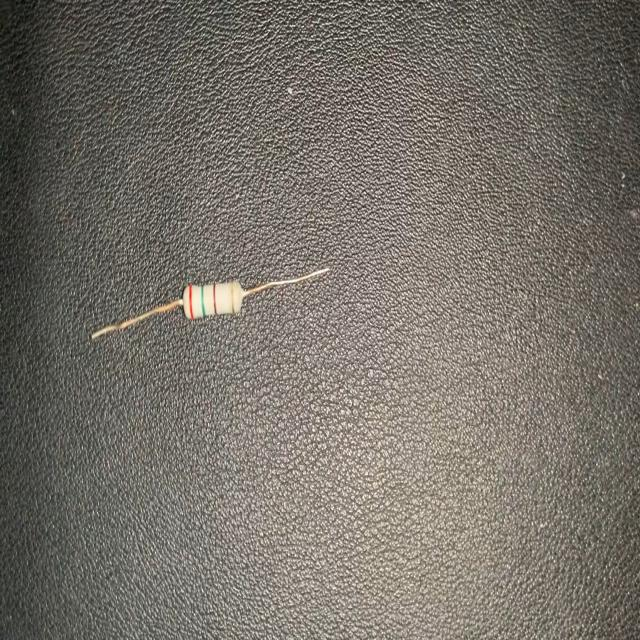resistor: (89, 268, 331, 344)
